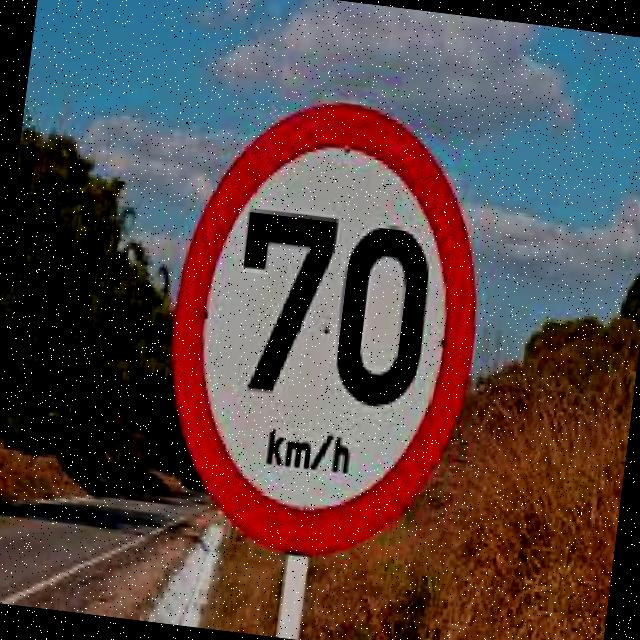Ograniczenie predkosci do 70: (156, 93, 492, 556)
